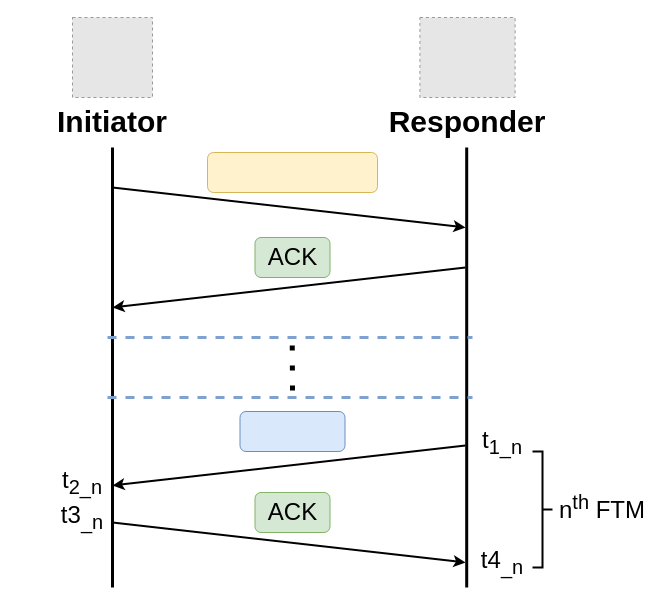
The diagram is 669 pixels wide and 607 high, and some of its shapes have lost their labels. Grey dashed boxes stand in for pictures. The shapes that lost their labels are listed below. From the top down, each one's centre as x and y in pixels, then its label:
[292,172]: FTM Request
[292,431]: FTM_n
